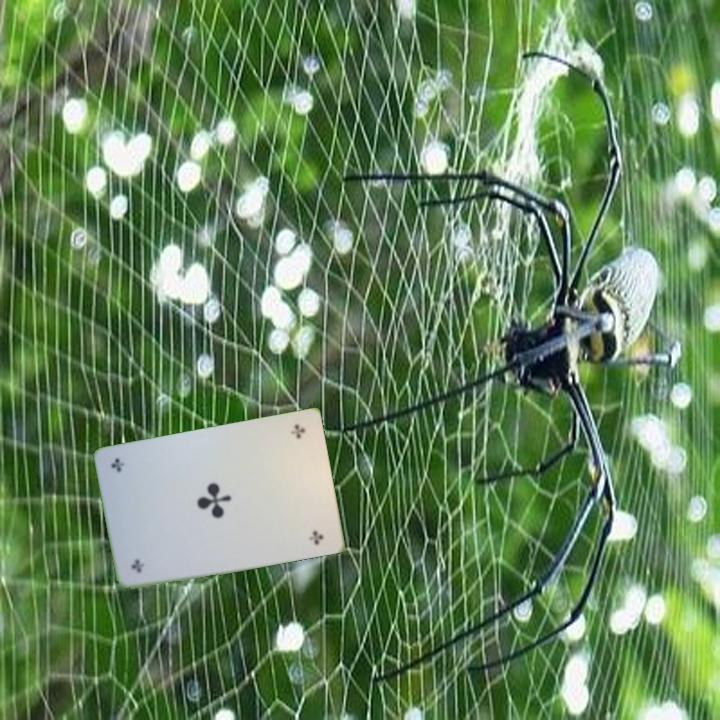c_a.png: (254, 418, 323, 494), (115, 506, 183, 582)
